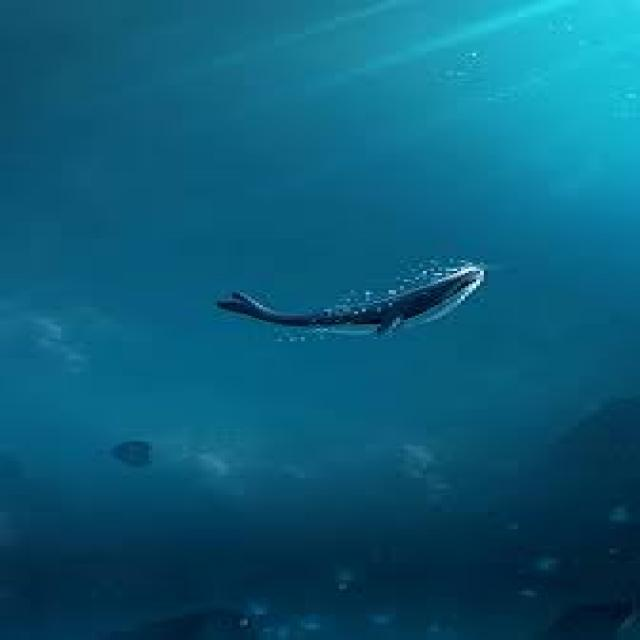blue_whale: (209, 250, 522, 410)
